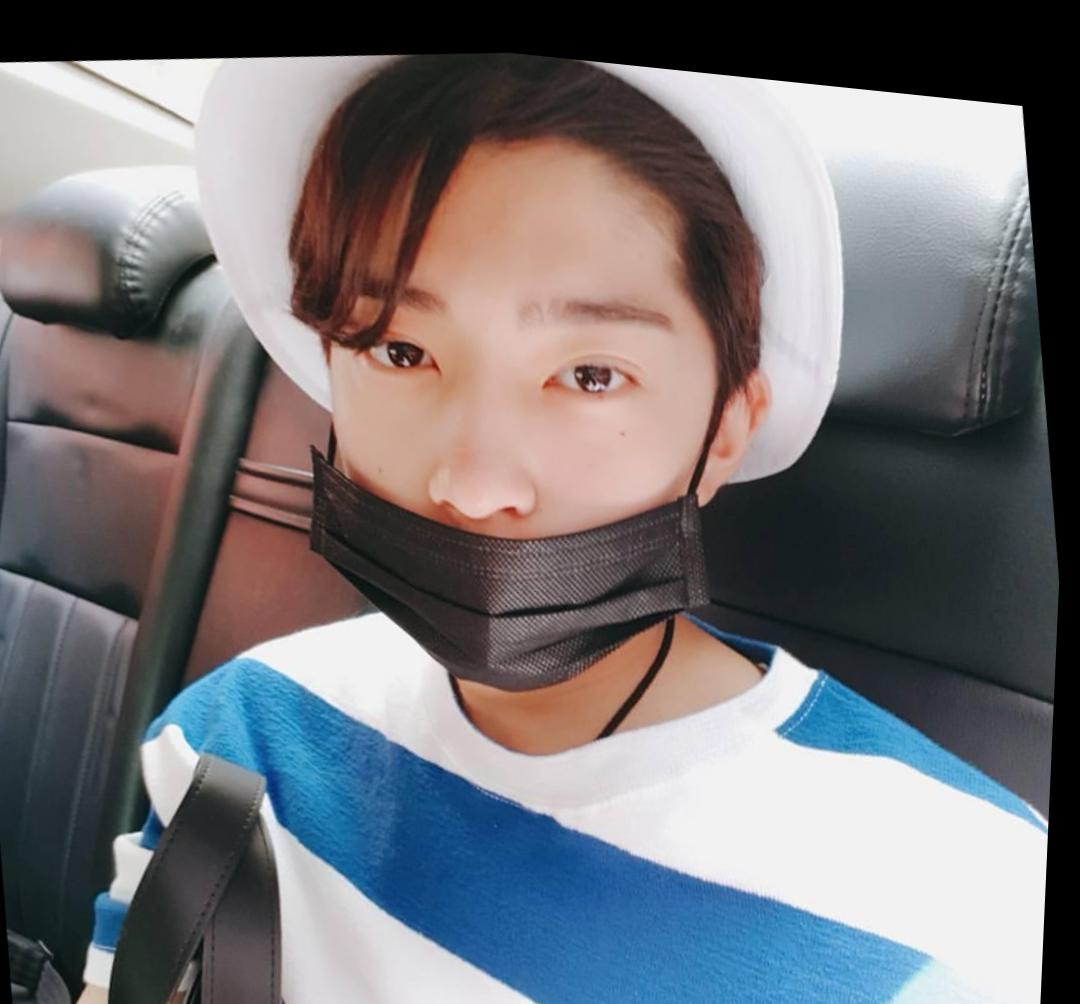WRONG: (277, 155, 738, 708)
